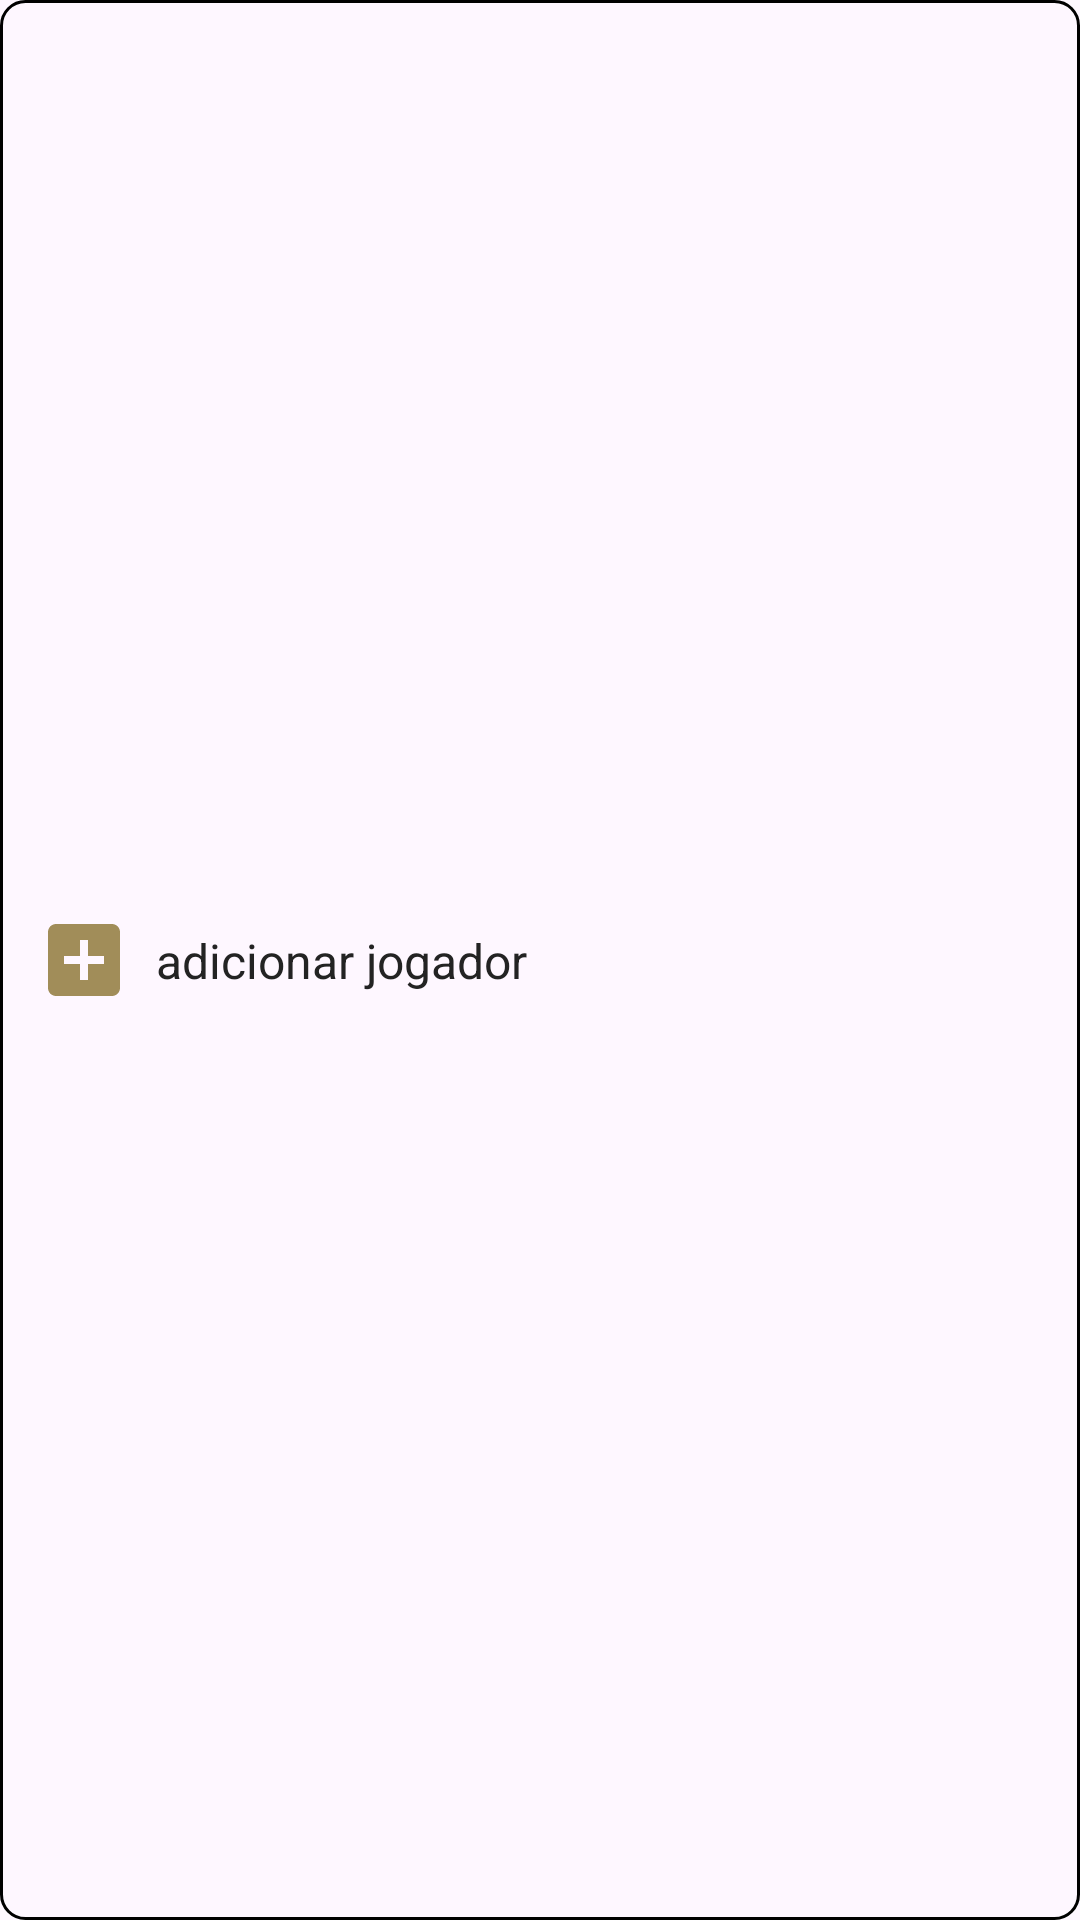

Where icons sit on this 1080 x 1920 app screen, as (x1, y1, x2, y2):
draw team add: (48, 924, 120, 996)
